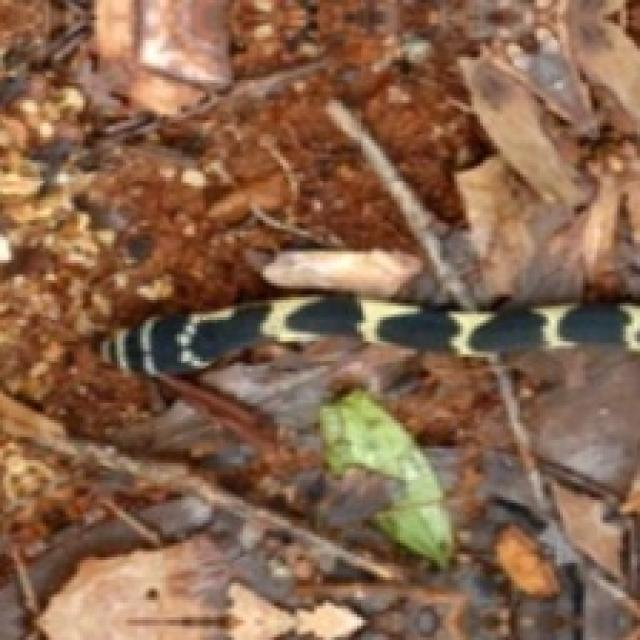king cobra: (100, 294, 637, 374)
